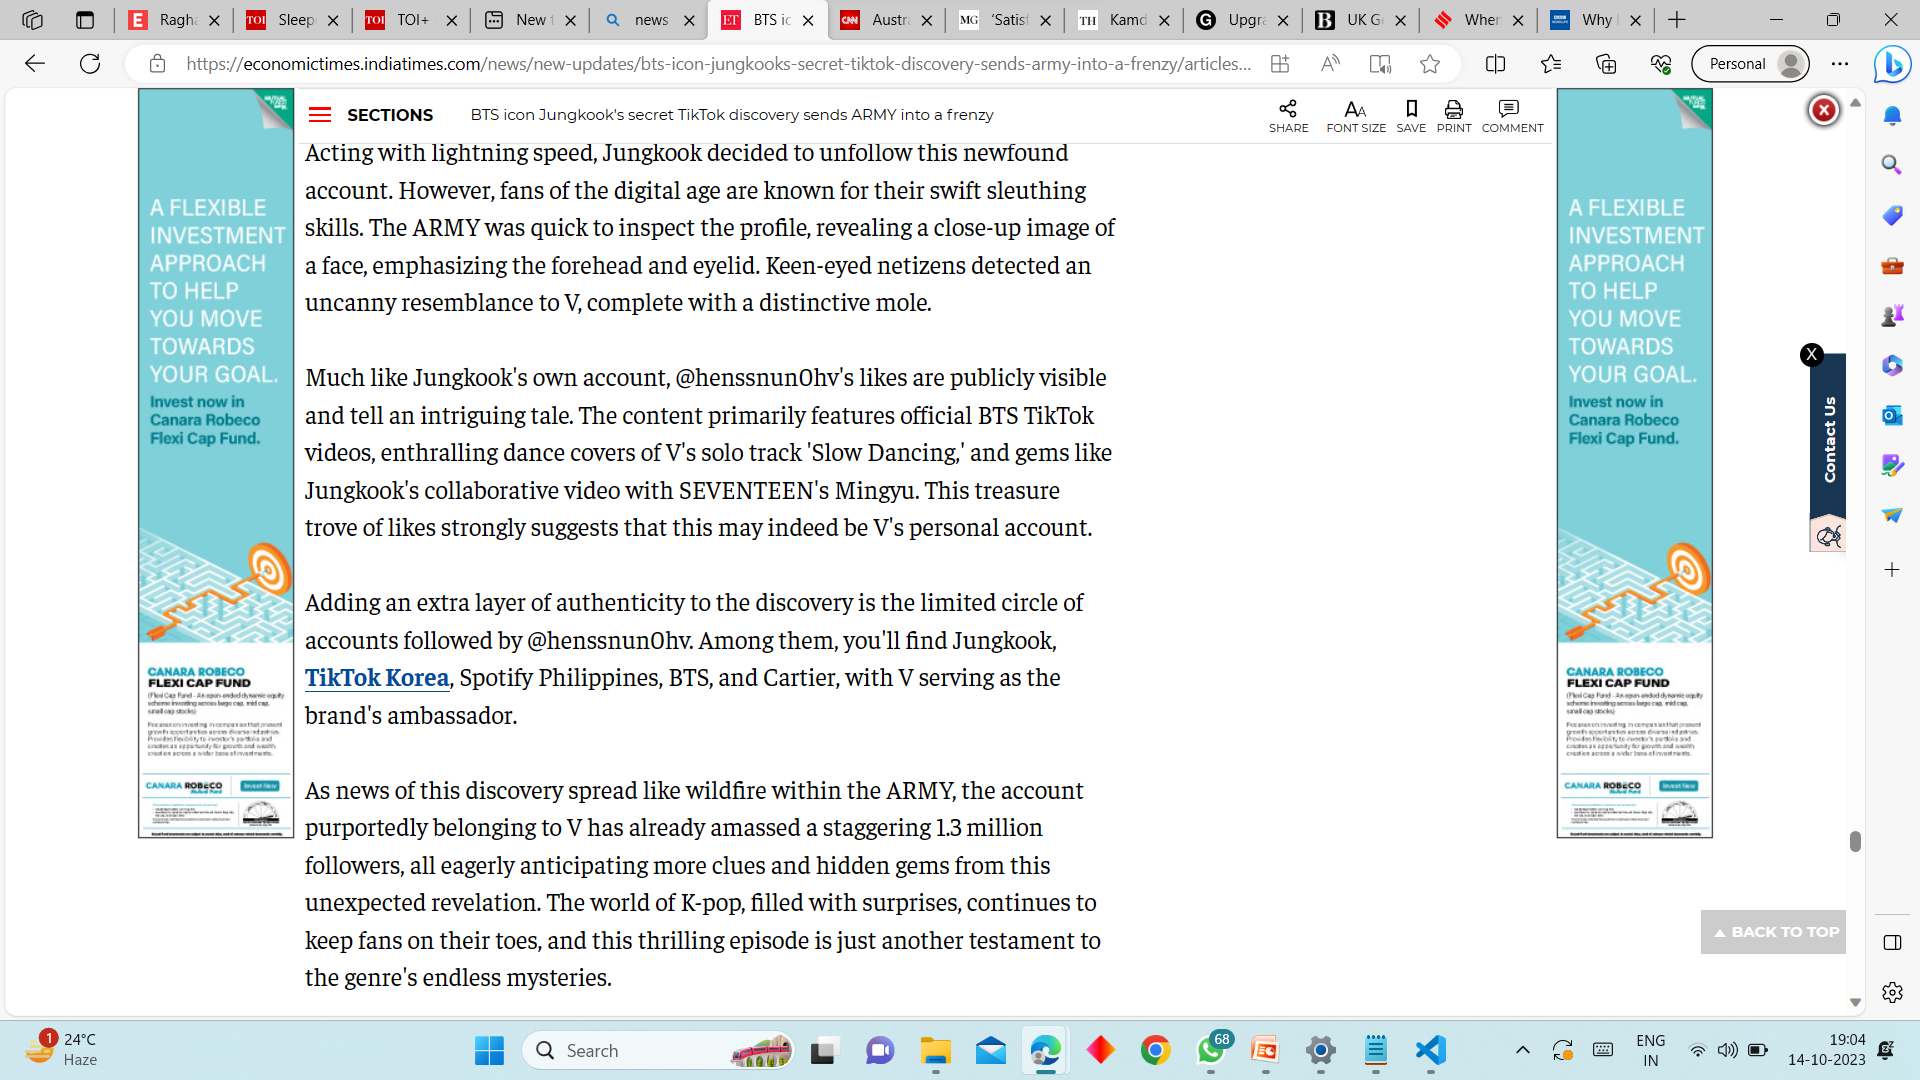Image: (1545, 84, 1706, 836), (138, 78, 293, 849)
Paragraph: (302, 771, 1241, 996), (295, 360, 1163, 556), (298, 135, 1138, 324), (302, 591, 1106, 745), (469, 96, 1022, 132), (347, 99, 436, 132)
